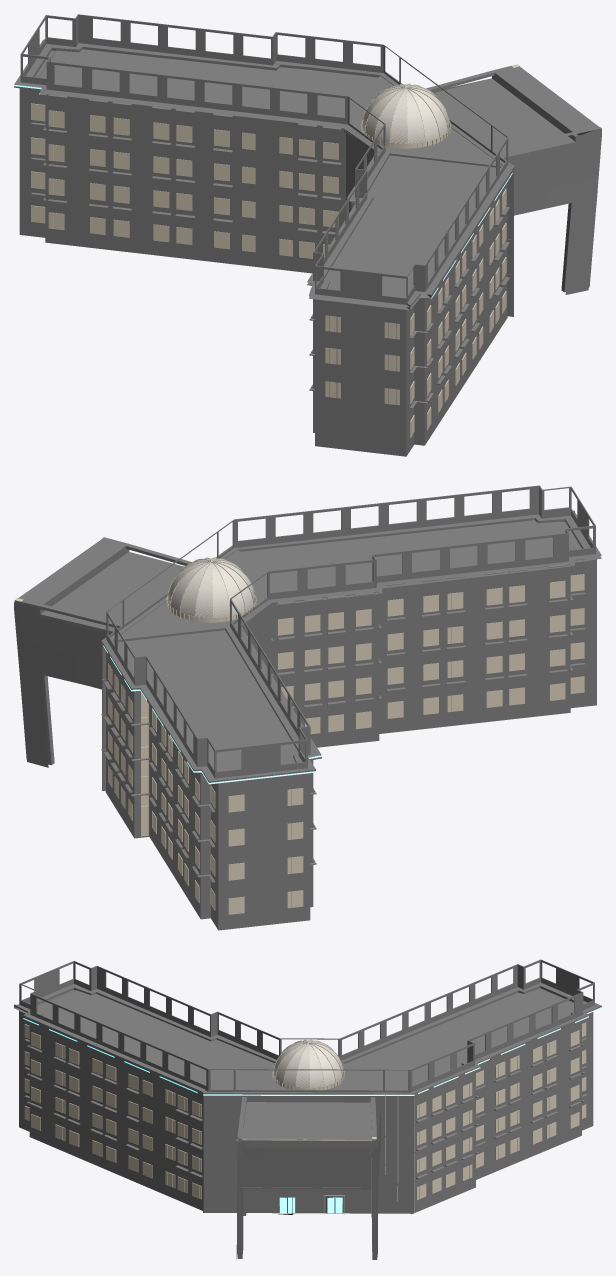
The model's file is LHC_final.glb.
3 views of the same model, one above another, from view 1: azimuth 30°, elevation 25°; view 2: azimuth 150°, elevation 25°; view 3: azimuth 270°, elevation 25° (orthographic). The views are drawn at different scales.
Visible parts, largest first — view 1: Cube.031, Cube.044, Sphere; view 2: Cube.031, Cube.044, Sphere; view 3: Cube.031, Cube.044, Sphere, Cube.075.
Boxes of the visible parts, bbox=[...] form: Cube.031: bbox=[14, 14, 601, 456]; Cube.044: bbox=[31, 64, 518, 437]; Sphere: bbox=[362, 83, 449, 143]; Cube.031: bbox=[14, 485, 601, 930]; Cube.044: bbox=[15, 574, 584, 914]; Sphere: bbox=[167, 557, 255, 617]; Cube.031: bbox=[14, 959, 601, 1259]; Cube.044: bbox=[24, 1022, 586, 1249]; Sphere: bbox=[273, 1039, 343, 1087]; Cube.075: bbox=[23, 1007, 601, 1214].
Bounding box in the file's own units: 379 × 183 × 597.
